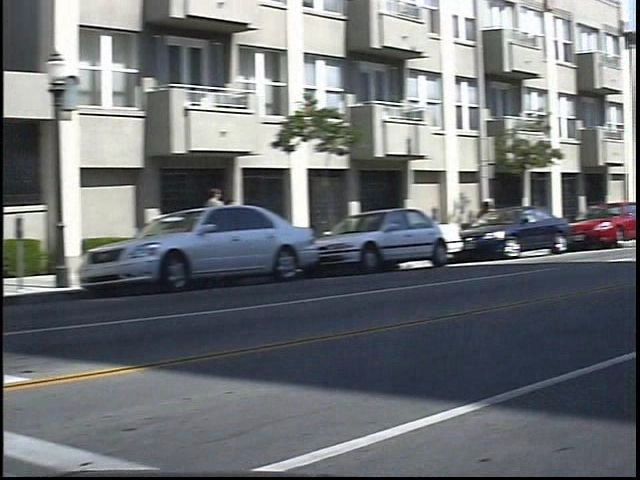person: (217, 183, 241, 260), (238, 192, 257, 257)
